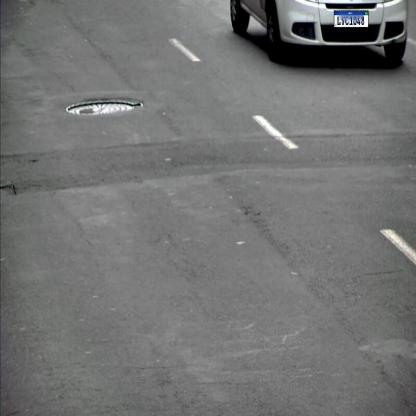PlacaM: (334, 10, 369, 28)
